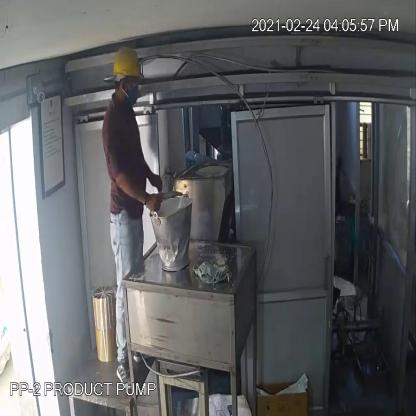helmet: (109, 43, 145, 84)
